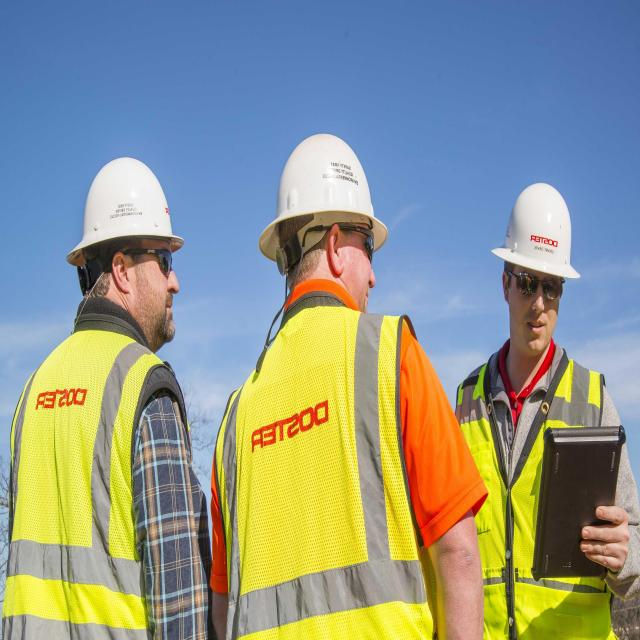Reflective-Jacket: (208, 304, 435, 640), (0, 325, 168, 632), (450, 350, 620, 636)
Safety-Helmet: (257, 126, 389, 268), (65, 148, 184, 273), (491, 178, 582, 283)
